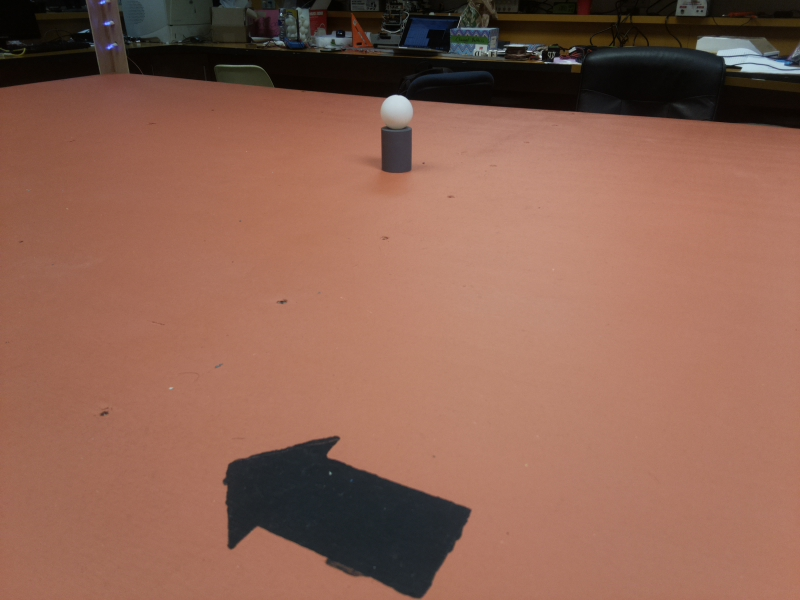obstacle: (376, 92, 414, 172)
start: (225, 436, 472, 600)
